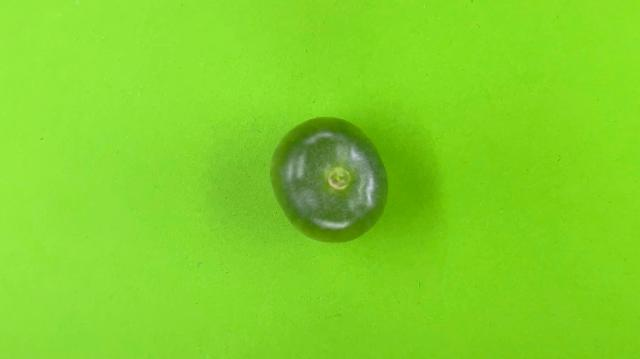Fruit Maturation: (268, 115, 389, 243)
